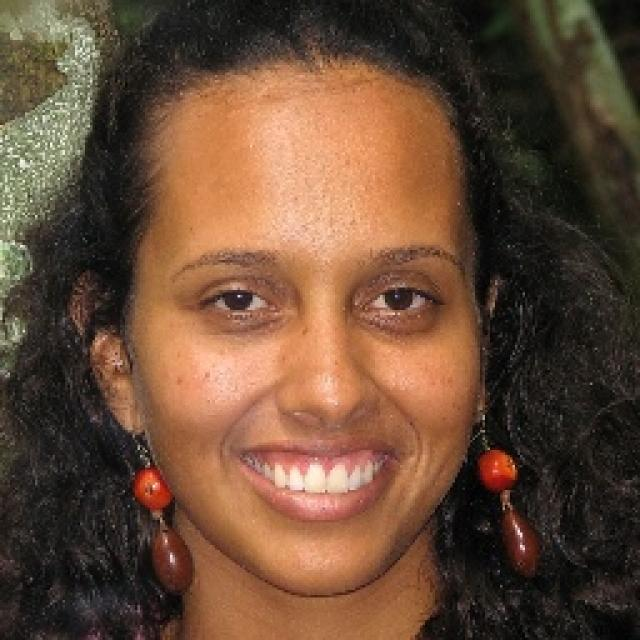earlobe: (66, 268, 147, 438)
